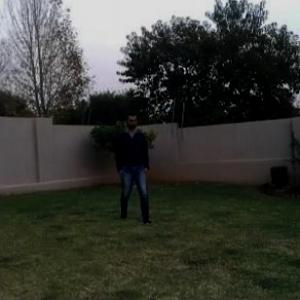follow: (117, 108, 151, 224)
